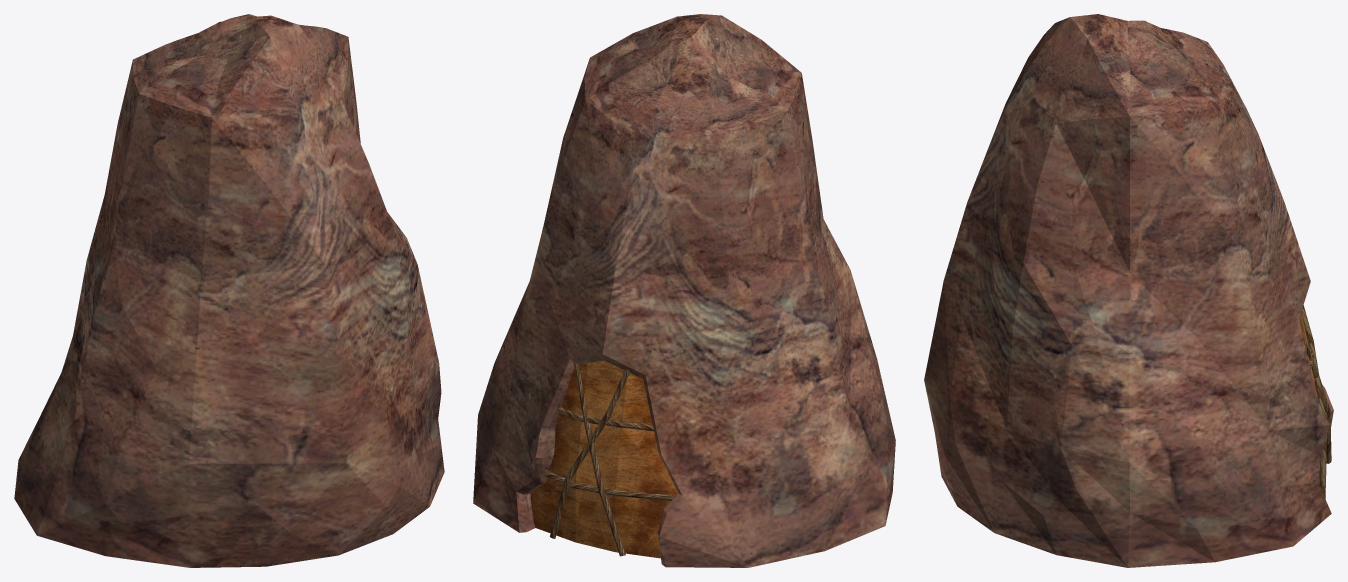
Rendered from thm_dath_night_sister_hut_s01_l0.fbx.
3 renders of one model, left to right at view 1: azimuth 30°, elevation 25°; view 2: azimuth 150°, elevation 25°; view 3: azimuth 270°, elevation 25°, orthographic. The views are drawn at different scales.
Parts seen in each view (by area): view 1: mesh_node; view 2: mesh_node; view 3: mesh_node.
Part boxes in pixels (bbox=[...]): mesh_node: bbox=[14, 14, 444, 567]; mesh_node: bbox=[473, 14, 895, 567]; mesh_node: bbox=[924, 14, 1333, 567].
Size of the model in its own units: 5.44 by 6.23 by 4.98.
